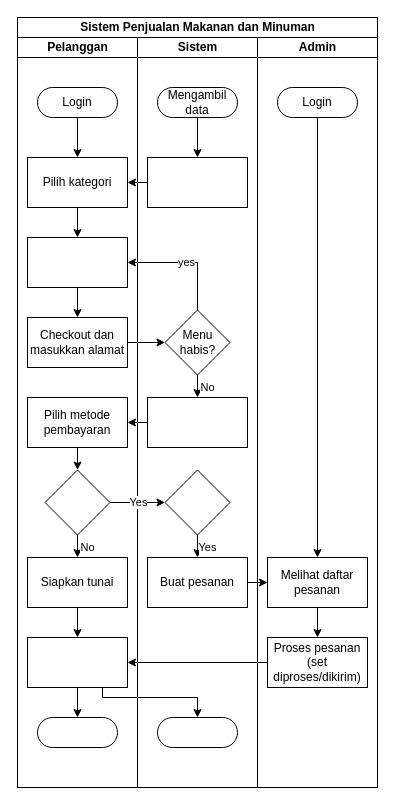
This 395x805 diagram has some shape labels left out. Here are the shapes that lost their labels. From the top down, the centre of each, then its label:
At pixel 197 182: "Menampilkan makanan dan minuman".
At pixel 77 262: "Pilih makanan dan minuman".
At pixel 197 422: "Buat daftar tagihan".
At pixel 77 502: "Transfer".
At pixel 197 502: "Pembayaran berhasil?".
At pixel 77 662: "Pesanan diterima dan bayar(jika tunai)".
At pixel 77 732: "Pesanan selesai".
At pixel 197 732: "set pesanan selesai".
